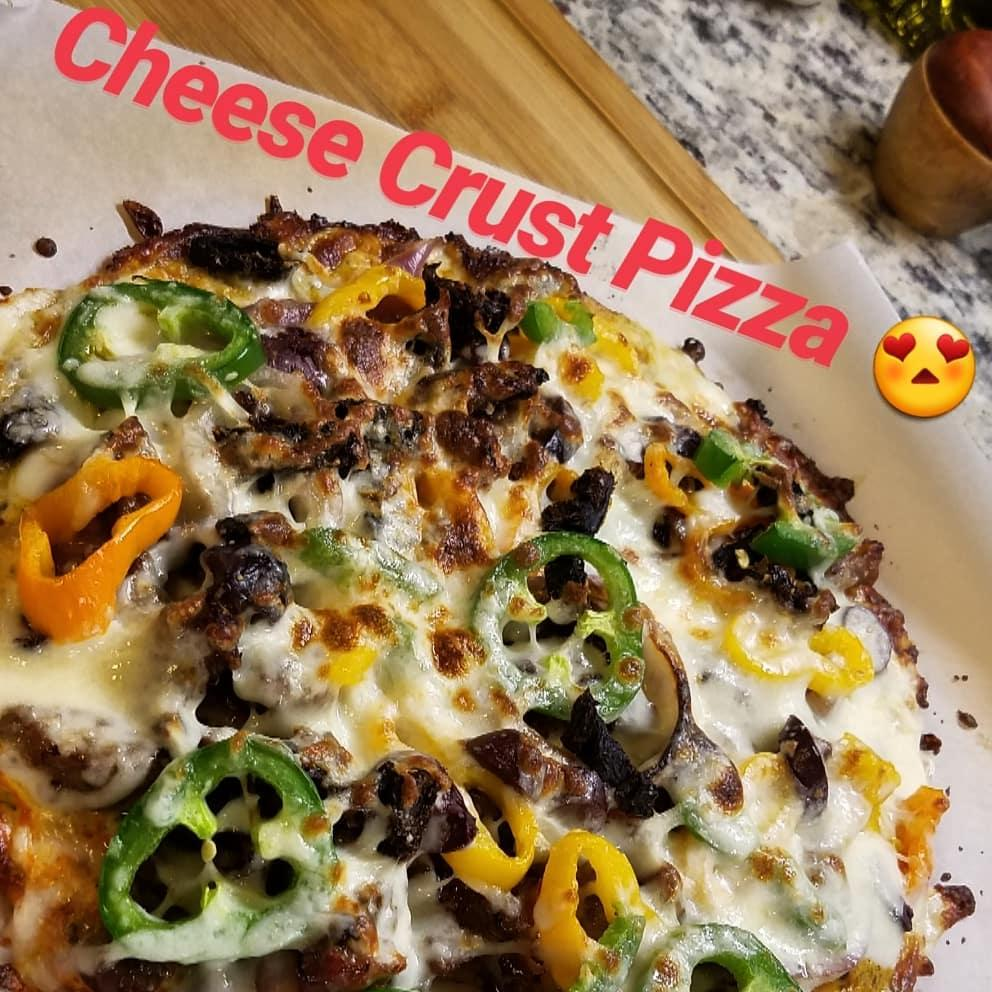Mushroom: (565, 615, 751, 828), (422, 353, 591, 473), (333, 746, 485, 872), (226, 406, 434, 475), (186, 528, 302, 649), (255, 300, 387, 386), (408, 270, 513, 359), (773, 703, 836, 818)
Peppers: (88, 715, 345, 969), (0, 445, 191, 652), (468, 524, 652, 726), (361, 693, 533, 887), (65, 270, 270, 409), (0, 751, 103, 973), (816, 739, 943, 898), (534, 824, 653, 986), (284, 516, 461, 607), (405, 458, 550, 568), (520, 278, 644, 403), (723, 610, 875, 706), (651, 914, 807, 992), (661, 505, 749, 624), (300, 266, 430, 341), (753, 500, 862, 575), (618, 433, 717, 515), (685, 417, 755, 492)
Pizza: (0, 190, 940, 988)
